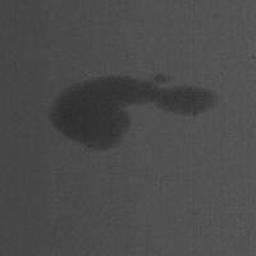Oil spot: (46, 72, 219, 152)
